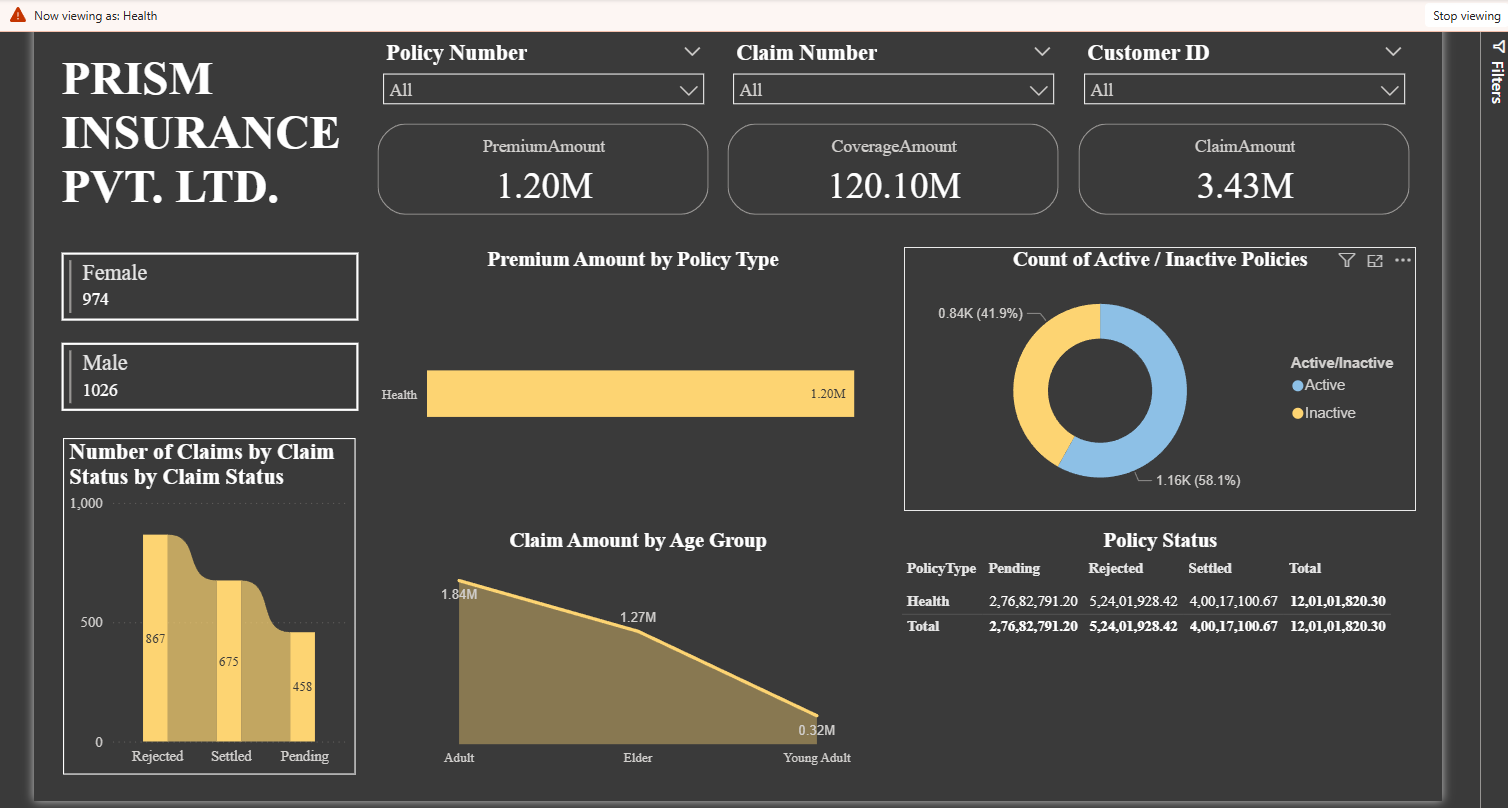

This screenshot's page, from the dashboard's own definition file:
{"tool":"powerbi","page":{"name":"Overview","canvas":[1280,720],"ordinal":0},"visuals":[{"type":"slicer","fields":{"Values":["InsuranceData.PolicyNumber"]},"box":[307.3,23.6,311.8,75.5],"z":0},{"type":"slicer","fields":{"Values":["InsuranceData.ClaimNumber"]},"box":[625.5,23.6,311.8,75.5],"z":1000},{"type":"slicer","fields":{"Values":["InsuranceData.CustomerID"]},"box":[944.5,23.6,311.8,75.5],"z":2000},{"type":"textbox","box":[20,33.6,280,159.1],"z":3000},{"type":"cardVisual","fields":{"Data":["Sum(InsuranceData.PremiumAmount)"]},"box":[307.3,99.1,311.8,93.6],"z":4000},{"type":"cardVisual","fields":{"Data":["Sum(InsuranceData.CoverageAmount)"]},"box":[625.5,99.1,311.8,93.6],"z":5000},{"type":"cardVisual","fields":{"Data":["Sum(InsuranceData.ClaimAmount)"]},"box":[944.5,99.1,311.8,93.6],"z":6000},{"type":"multiRowCard","fields":{"Values":["InsuranceData.Gender","CountNonNull(InsuranceData.Gender)"]},"box":[20,216.4,280,173.6],"z":7000},{"type":"ribbonChart","title":"Number of Claims by Claim Status by Claim Status","fields":{"Category":["InsuranceData.ClaimStatus"],"Y":["CountNonNull(InsuranceData.ClaimStatus)"]},"box":[26.6,390.1,266,305.9],"z":8000},{"type":"barChart","title":"Premium Amount by Policy Type","fields":{"Category":["InsuranceData.PolicyType"],"Y":["Sum(InsuranceData.PremiumAmount)"]},"box":[307.3,216.4,474.5,240],"z":9000},{"type":"lineChart","title":"Claim Amount by Age Group","fields":{"Category":["InsuranceData.Age Group"],"Y":["Sum(InsuranceData.ClaimAmount)"]},"box":[316.4,471.8,465.5,224.5],"z":10000},{"type":"donutChart","title":"Count of Active / Inactive Policies","fields":{"Category":["InsuranceData.Active/Inactive"],"Y":["CountNonNull(InsuranceData.Active/Inactive)"]},"box":[790.9,216.4,465.5,240.3],"z":11000},{"type":"pivotTable","title":"Policy Status","fields":{"Values":["Sum(InsuranceData.CoverageAmount)"],"Rows":["InsuranceData.PolicyType"],"Columns":["InsuranceData.ClaimStatus"]},"box":[783.8,471.7,480.6,225.2],"z":12000}]}

Visuals, with their boxes on the page's 1280x720 design canvas (x1, y1, x2, y2). These are canvas units, not pixel positions in the 1508x808 screenshot, which may show the page scaled, cropped or inside an application window:
slicer - InsuranceData.PolicyNumber: [307, 24, 619, 99]
slicer - InsuranceData.ClaimNumber: [626, 24, 937, 99]
slicer - InsuranceData.CustomerID: [944, 24, 1256, 99]
textbox: [20, 34, 300, 193]
cardVisual - Sum(InsuranceData.PremiumAmount): [307, 99, 619, 193]
cardVisual - Sum(InsuranceData.CoverageAmount): [626, 99, 937, 193]
cardVisual - Sum(InsuranceData.ClaimAmount): [944, 99, 1256, 193]
multiRowCard - InsuranceData.Gender x CountNonNull(InsuranceData.Gender): [20, 216, 300, 390]
"Number of Claims by Claim Status by Claim Status" ribbonChart: [27, 390, 293, 696]
"Premium Amount by Policy Type" barChart: [307, 216, 782, 456]
"Claim Amount by Age Group" lineChart: [316, 472, 782, 696]
"Count of Active / Inactive Policies" donutChart: [791, 216, 1256, 457]
"Policy Status" pivotTable: [784, 472, 1264, 697]
